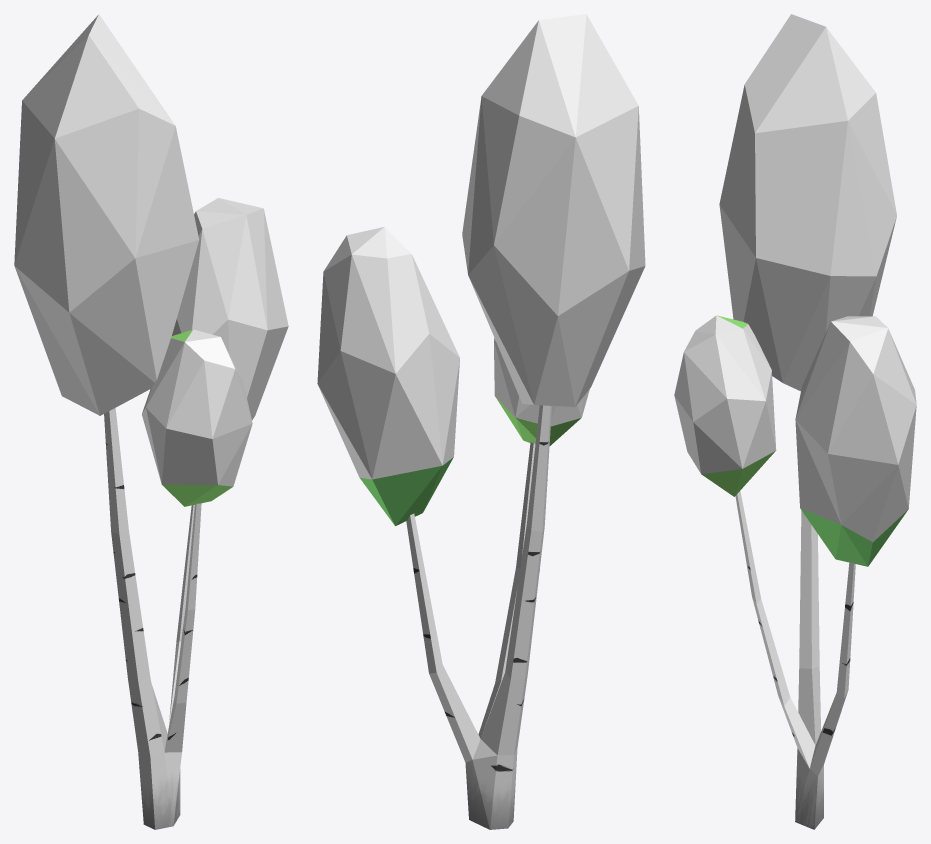
File: Birch_Tree_m_Snow_BT_08.fbx
The picture shows the model from 3 angles, left to right: view 1: azimuth 30°, elevation 25°; view 2: azimuth 150°, elevation 25°; view 3: azimuth 270°, elevation 25°; orthographic projection. The views are drawn at different scales.
Parts seen in each view (by area): view 1: Birch_Tree_m_Snow_BT_08; view 2: Birch_Tree_m_Snow_BT_08; view 3: Birch_Tree_m_Snow_BT_08.
Boxes of the visible parts, box(x1,y1,x2,y2) form: Birch_Tree_m_Snow_BT_08: box(14, 14, 288, 829); Birch_Tree_m_Snow_BT_08: box(317, 14, 645, 829); Birch_Tree_m_Snow_BT_08: box(674, 14, 916, 829).
Bounding box in the file's own units: 270 × 756 × 216.
